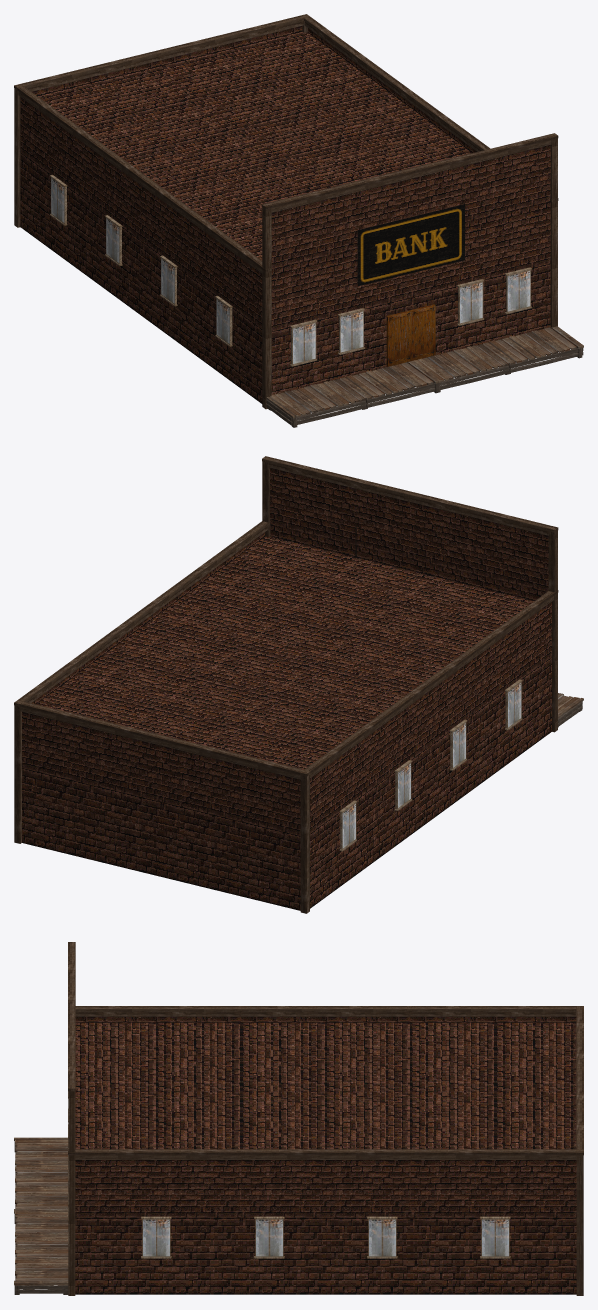
File: Bank_Building.fbx
3 renders of one model, top to bottom at view 1: azimuth 30°, elevation 25°; view 2: azimuth 150°, elevation 25°; view 3: azimuth 270°, elevation 25°, orthographic. The views are drawn at different scales.
Visible parts, largest first — view 1: Bank_Building; view 2: Bank_Building; view 3: Bank_Building.
Boxes of the visible parts, <box> form: Bank_Building: <box>14,14,583,427</box>; Bank_Building: <box>14,456,583,913</box>; Bank_Building: <box>14,942,583,1295</box>.
Bounding box in the file's own units: 1227 × 810 × 2018.
Materials: 8 (8 with a texture image).
